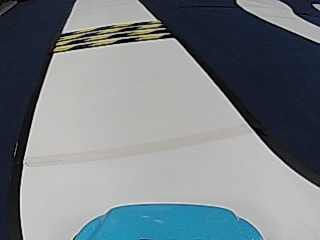bump: (70, 21, 159, 50)
